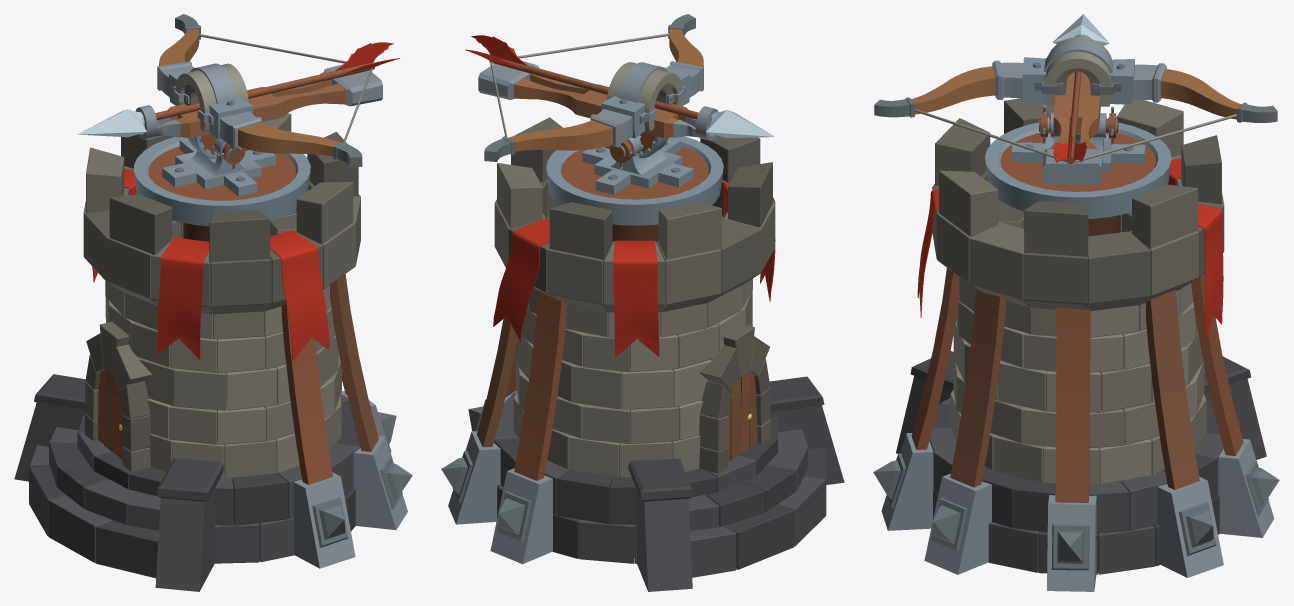
Rendered from ArcherTower-lvl3.fbx.
The picture shows the model from 3 angles, left to right: view 1: azimuth 30°, elevation 25°; view 2: azimuth 150°, elevation 25°; view 3: azimuth 270°, elevation 25°; orthographic projection. The views are drawn at different scales.
Parts seen in each view (by area): view 1: Cube.032, Cube.004, Plane.003, Cube.001; view 2: Cube.032, Cube.004, Cube.001, Plane.003; view 3: Cube.032, Cube.004, Plane.003, Cube.001.
Part boxes in pixels (x1,y1,x2,y2): Cube.032: (14, 113, 412, 591); Cube.004: (135, 14, 382, 170); Plane.003: (77, 42, 399, 137); Cube.001: (162, 138, 275, 196); Cube.032: (441, 117, 844, 591); Cube.004: (478, 14, 718, 168); Cube.001: (582, 137, 693, 194); Plane.003: (465, 35, 774, 138); Cube.032: (873, 98, 1279, 591); Cube.004: (874, 34, 1277, 184); Plane.003: (1052, 14, 1109, 164); Cube.001: (1012, 133, 1145, 172).
Bounding box in the file's own units: 583 × 721 × 577.
